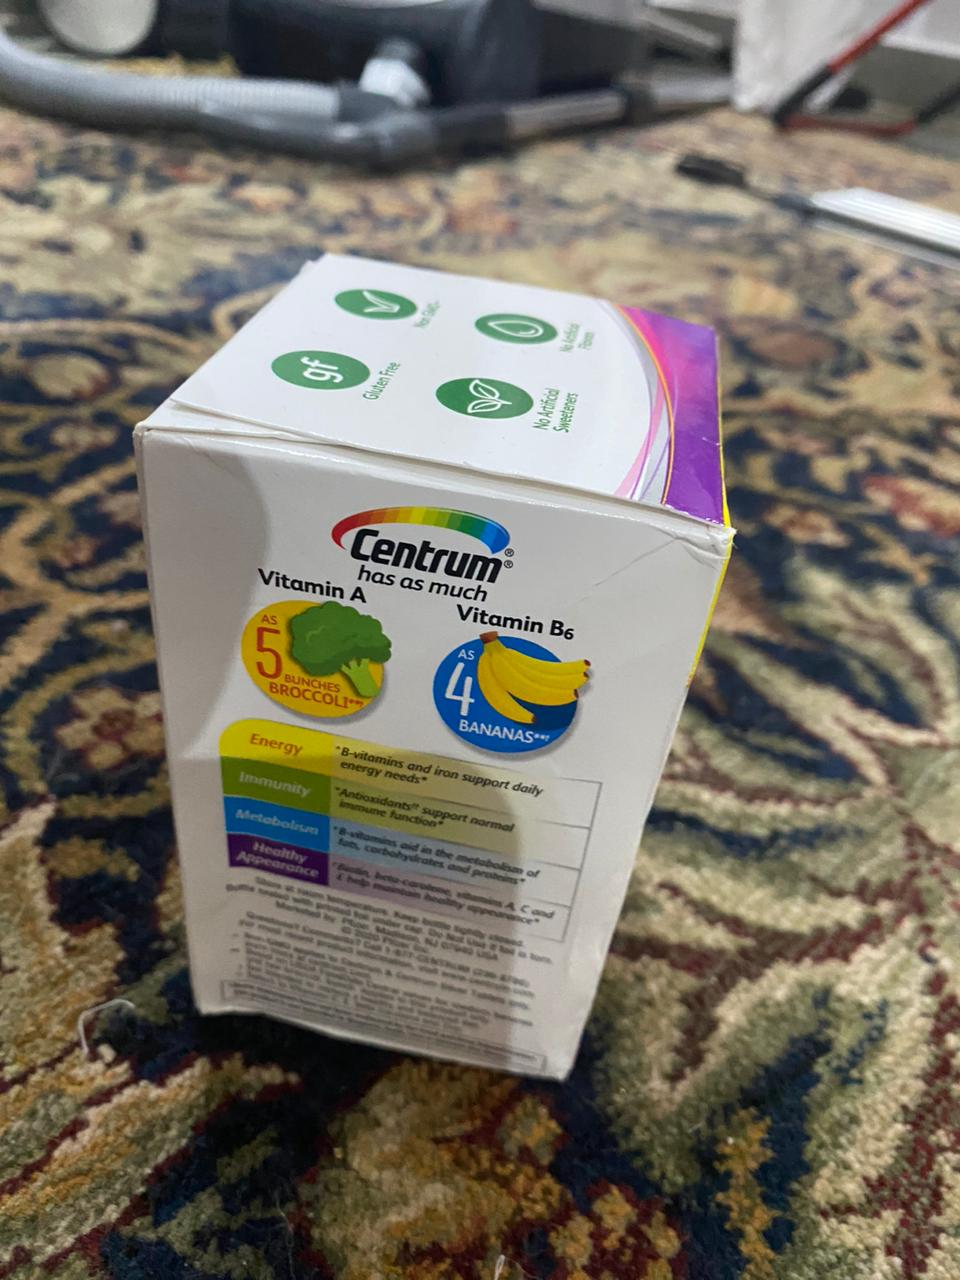Centrum: (130, 249, 735, 1086)
